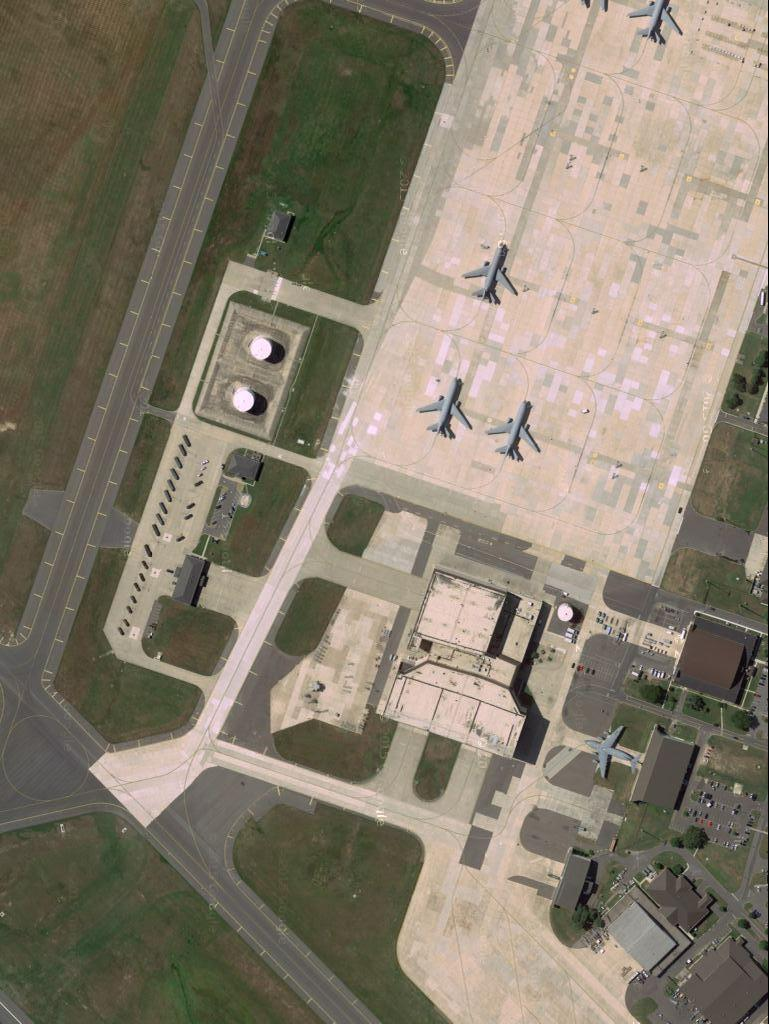C-17: (582, 723, 651, 785)
KC-10: (417, 375, 476, 446), (487, 397, 545, 465), (463, 242, 519, 309), (626, 1, 683, 49)
